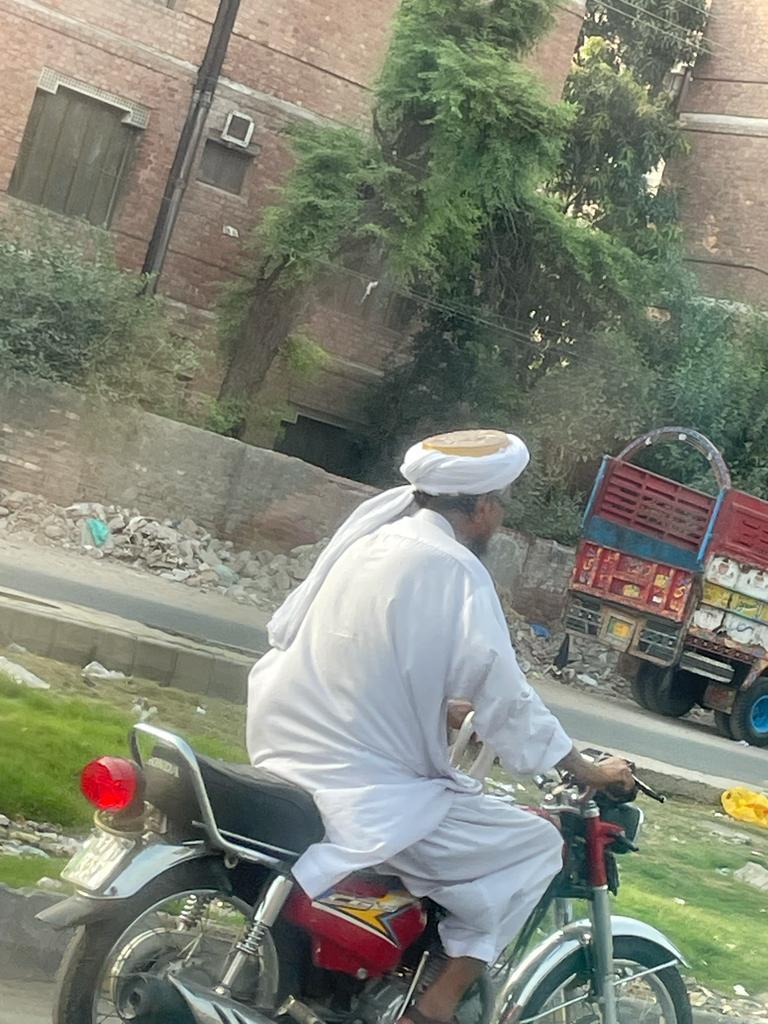garbage: (7, 478, 315, 620)
